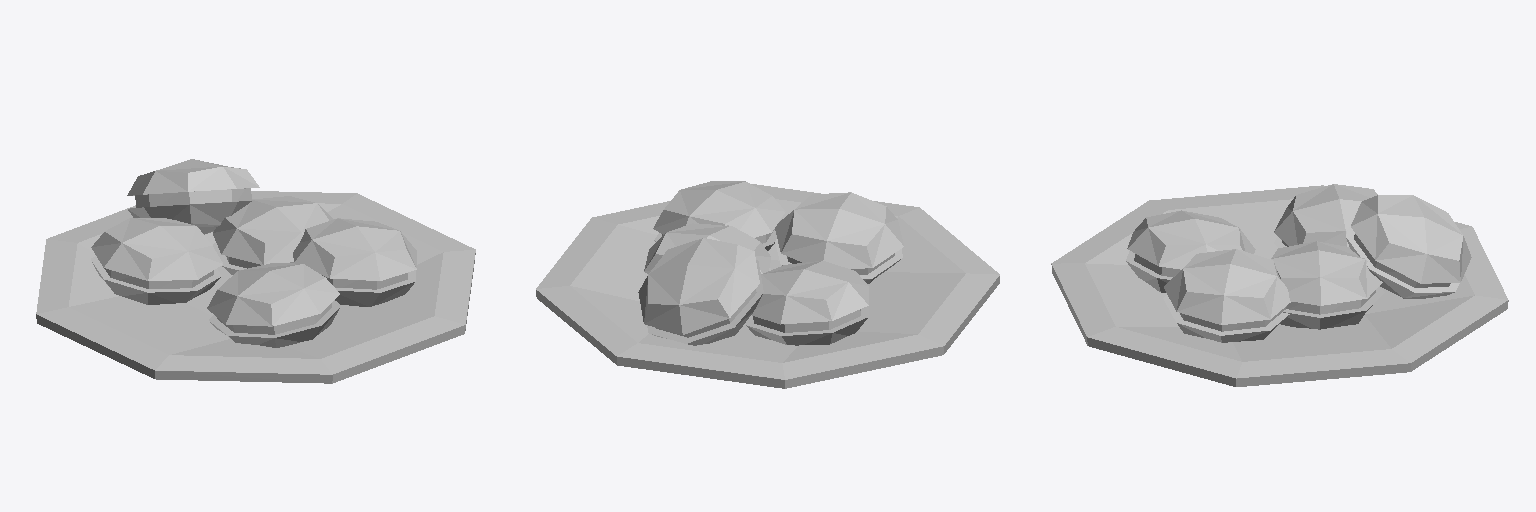
File: dish_001.obj
The picture shows the model from 3 angles: view 1: azimuth 30°, elevation 25°; view 2: azimuth 150°, elevation 25°; view 3: azimuth 270°, elevation 25°; orthographic projection.
Parts seen in each view (by area): view 1: dish_001; view 2: dish_001; view 3: dish_001.
Part boxes in pixels (x1,y1,x2,y2): dish_001: (36,159,475,383); dish_001: (536,181,999,388); dish_001: (1051,184,1508,386).
Bounding box in the file's own units: 0.2193 × 0.0549 × 0.2193.